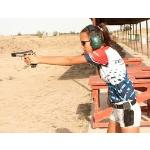Pistol: (10, 46, 38, 66)
